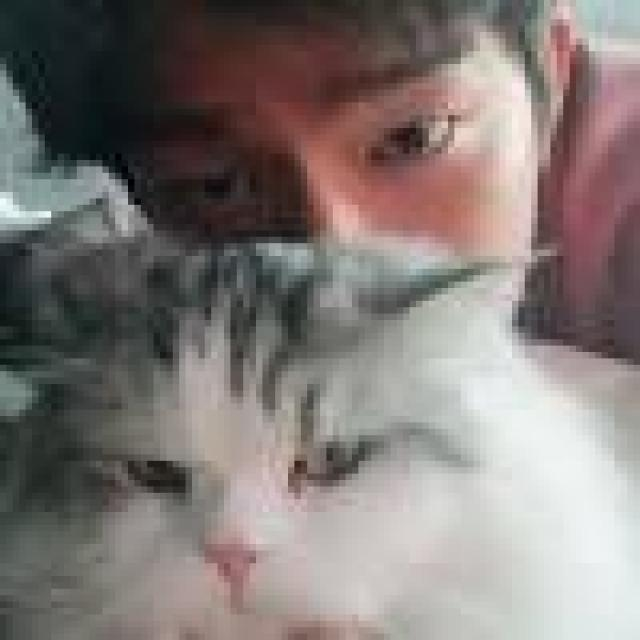cat-face: (45, 262, 493, 640)
